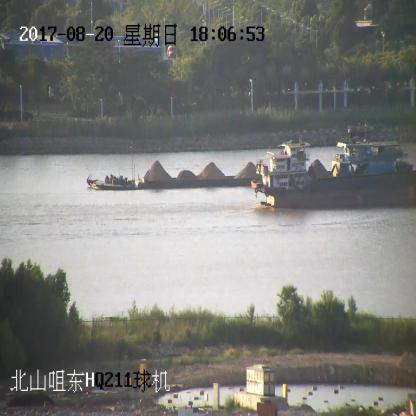Bulk Carrier: (252, 143, 416, 211)
